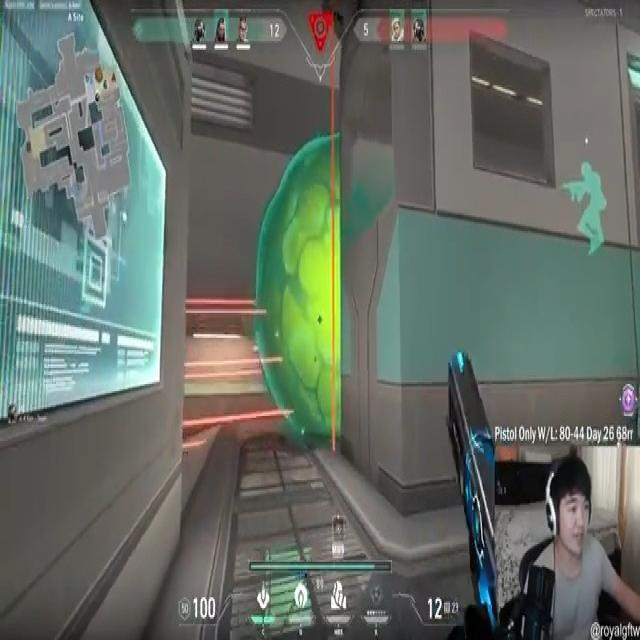ally behind wall: (561, 148, 612, 259)
